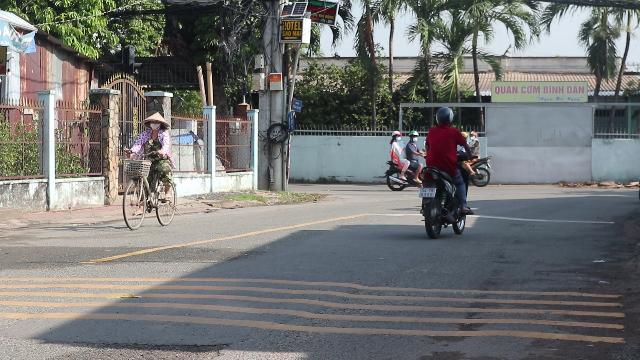helmet: (434, 106, 454, 126)
licenseplate: (419, 187, 436, 197)
motorcyclist: (414, 105, 474, 236)
